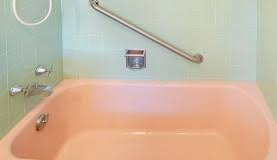bathub: (1, 65, 277, 160)
